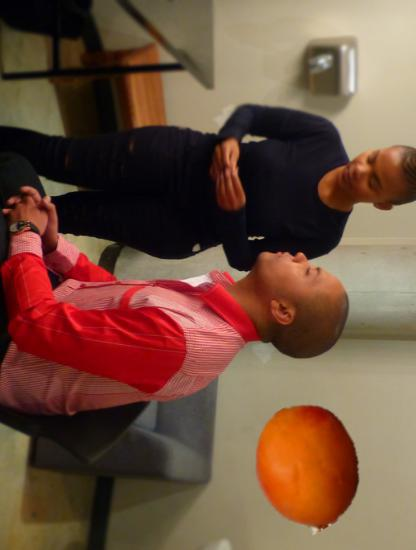Apricot: (245, 404, 370, 529)
